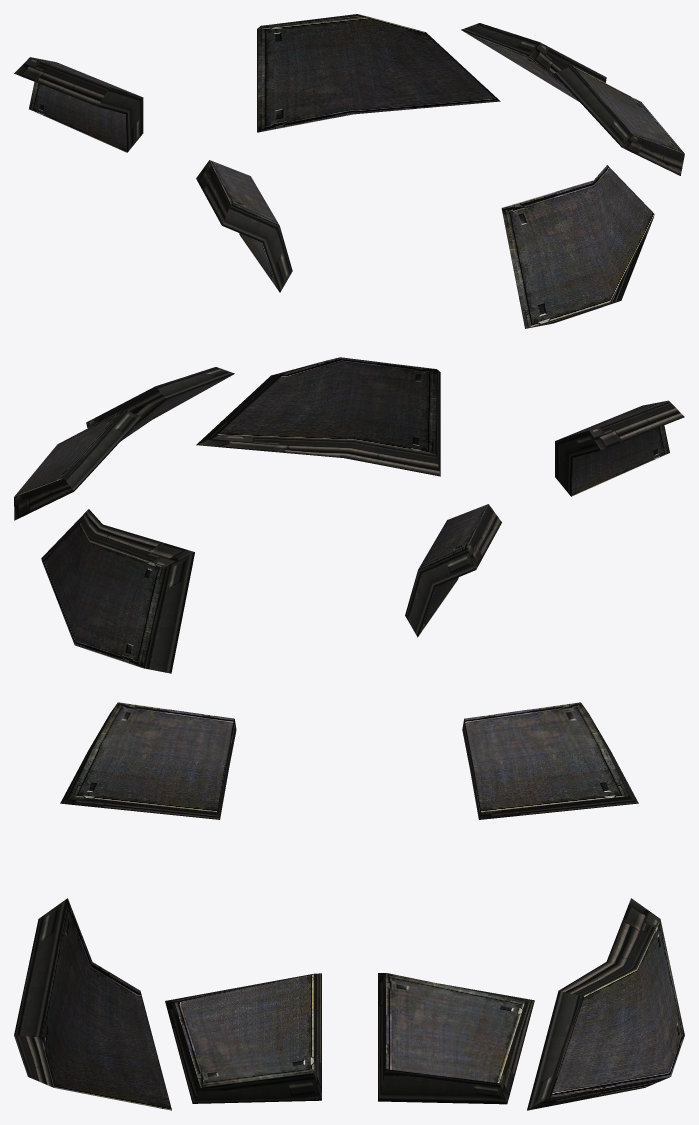
The model's file is flying_unit_iron.obj.
The picture shows the model from 3 angles, top to bottom: view 1: azimuth 30°, elevation 25°; view 2: azimuth 150°, elevation 25°; view 3: azimuth 270°, elevation 25°; orthographic projection. The views are drawn at different scales.
Visible parts, largest first — view 1: polySurface44; view 2: polySurface44; view 3: polySurface44.
Boxes of the visible parts, x1,y1,x2,y2 form: polySurface44: (14, 14, 684, 328); polySurface44: (14, 357, 684, 673); polySurface44: (14, 702, 684, 1110).
Bounding box in the file's own units: 29.04 × 8.95 × 28.84.
1 material, 1 textured.
